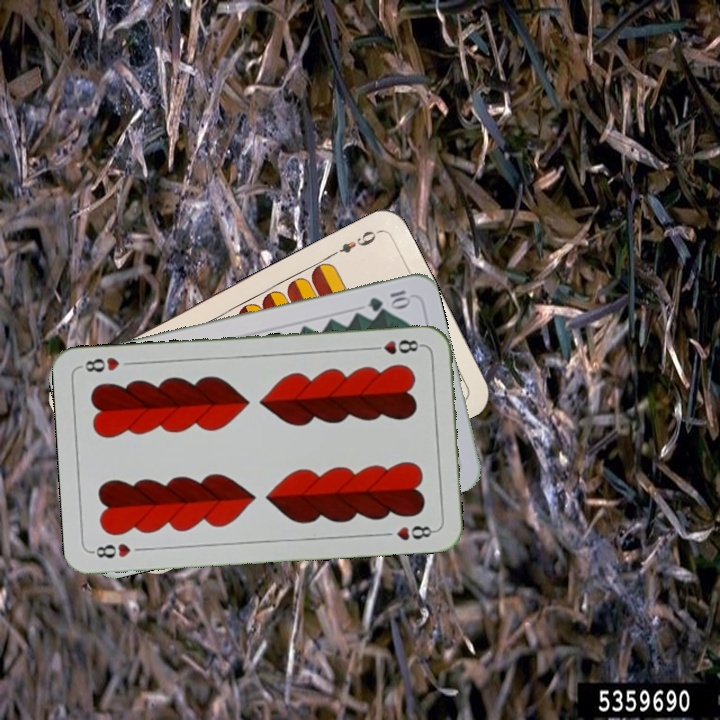E9: (326, 226, 382, 260)
G10: (364, 286, 413, 314)
H8: (88, 539, 148, 561), (366, 336, 425, 357)
